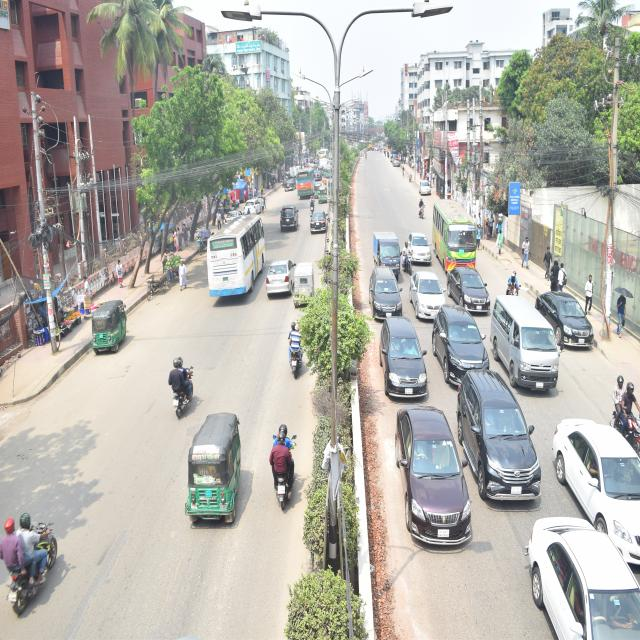bus: (195, 195, 273, 305), (431, 189, 481, 274), (292, 163, 316, 207)
car: (537, 379, 640, 558), (446, 349, 549, 516), (506, 514, 640, 640), (388, 399, 477, 565), (533, 256, 603, 366), (377, 317, 445, 404), (433, 294, 497, 374), (447, 253, 495, 320), (408, 266, 448, 319), (267, 246, 300, 308), (367, 257, 400, 315), (406, 213, 431, 268), (278, 191, 304, 238), (306, 198, 333, 239)
microbus: (495, 267, 568, 399)
motorbike: (0, 500, 72, 604), (259, 414, 313, 526), (600, 358, 640, 457), (282, 307, 322, 401), (153, 345, 201, 419), (399, 224, 415, 282), (502, 258, 522, 303), (410, 188, 430, 218), (304, 188, 318, 218)
pickup-van: (370, 234, 407, 282)
